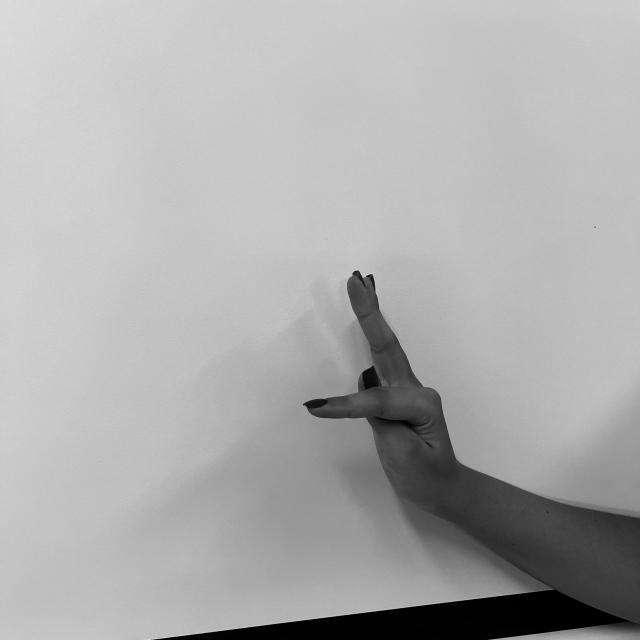Letra T: (296, 265, 460, 506)
